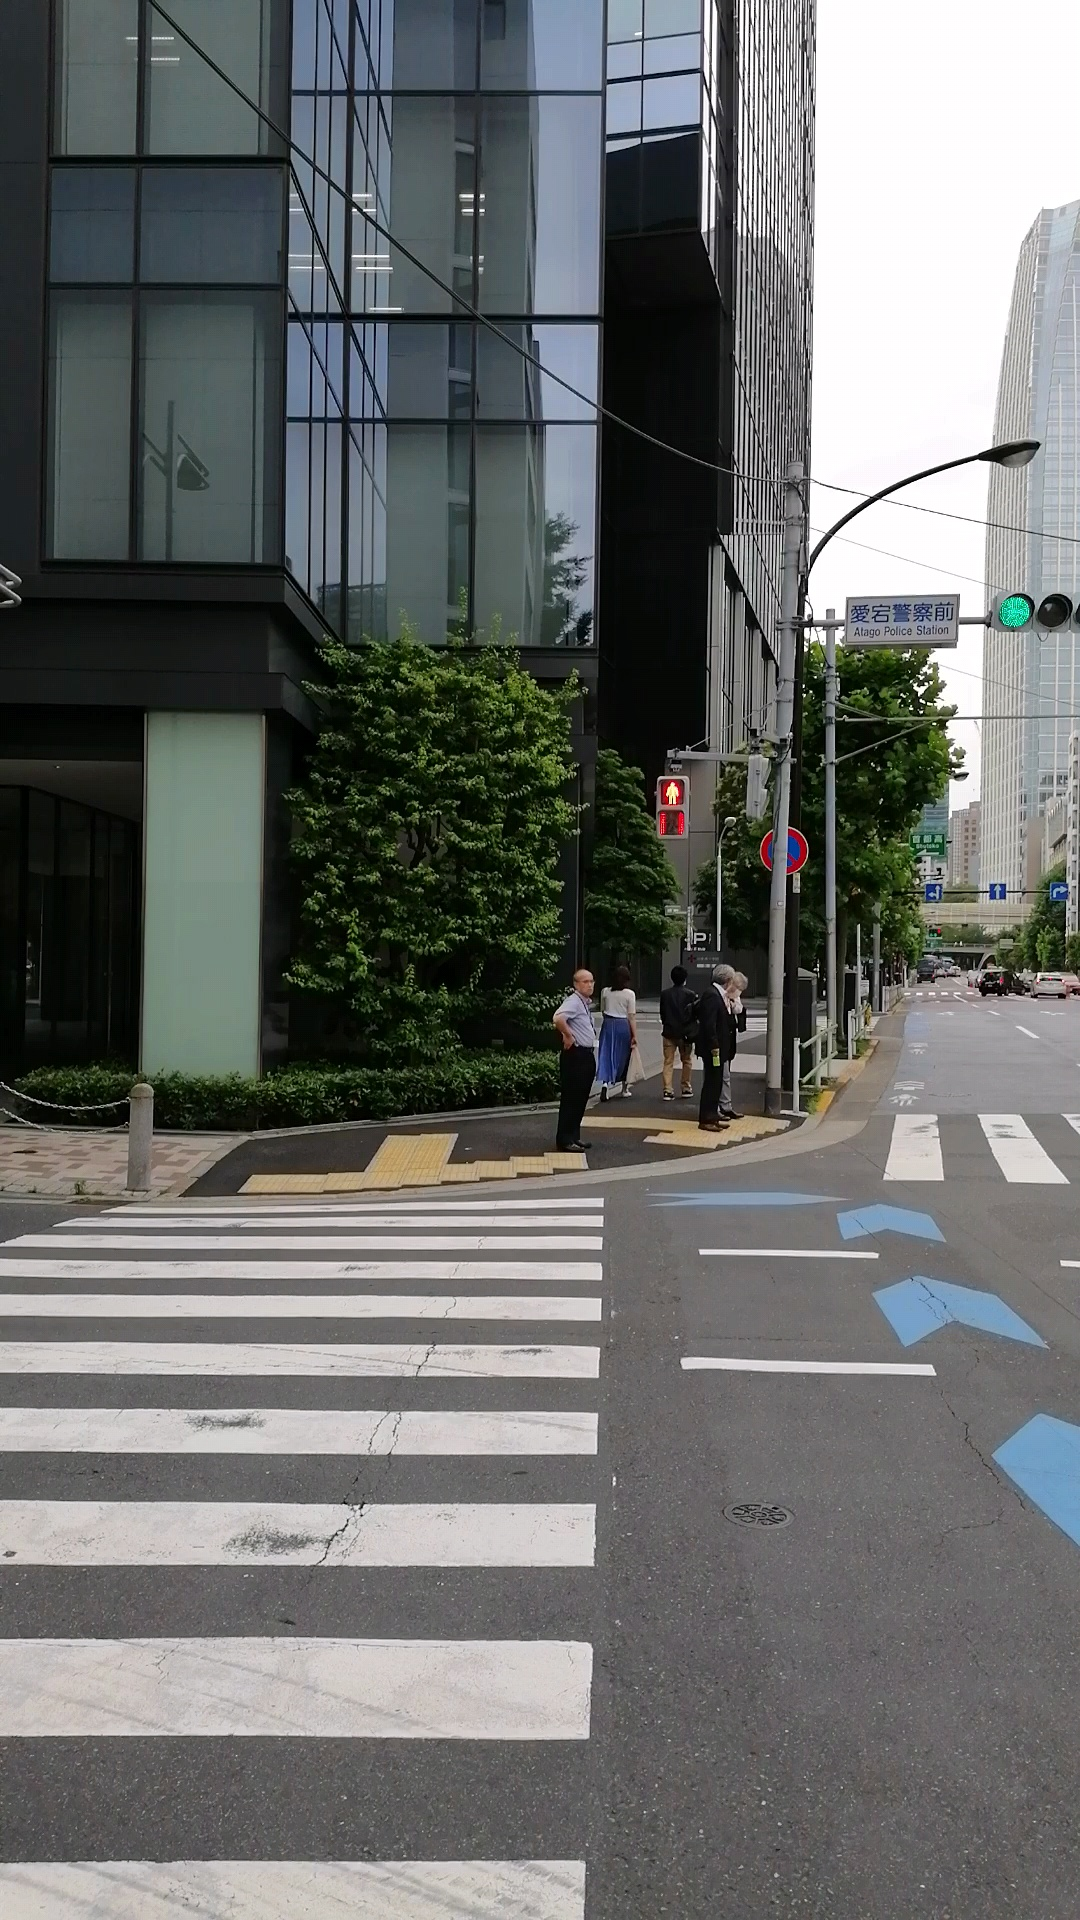red: (653, 773, 688, 839)
